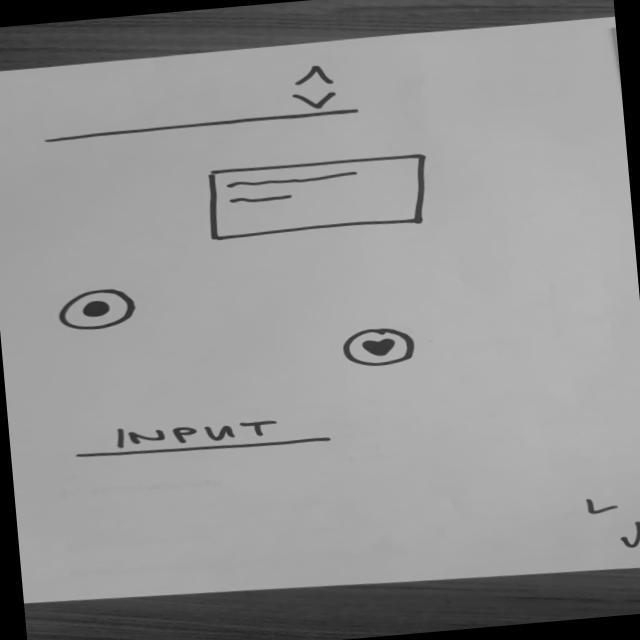icon-button: (332, 319, 422, 371)
input: (70, 402, 338, 466)
number-input: (29, 59, 367, 148)
radio: (54, 284, 145, 334)
textarea: (200, 147, 438, 245)
